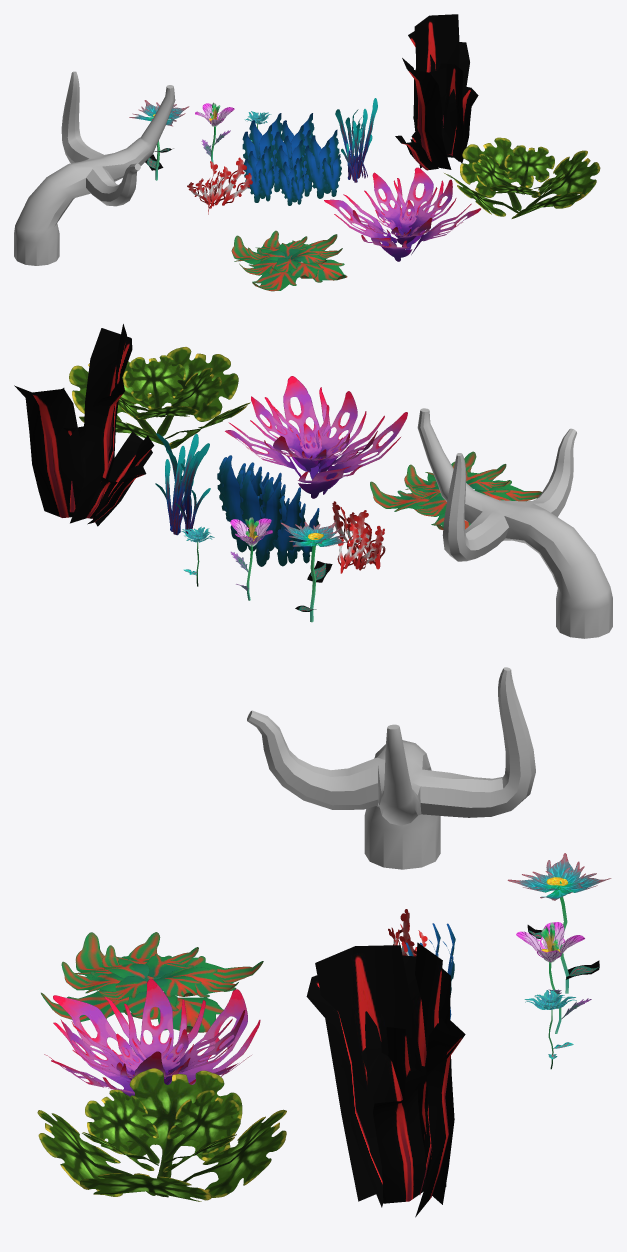
File: plantsWip_edit_for_FBX.fbx
3 renders of one model, top to bottom at view 1: azimuth 30°, elevation 25°; view 2: azimuth 150°, elevation 25°; view 3: azimuth 270°, elevation 25°, orthographic. The views are drawn at different scales.
Parts seen in each view (by area): view 1: tree01, plants07, plants03, plants05, plants02, plants01, plants06, plants04, flower03, flower02; view 2: tree01, plants07, plants03, plants02, plants05, plants01, plants06, plants04, flower03, flower02, flower01; view 3: plants07, tree01, plants03, plants02, plants01, flower03, flower02, flower01.
Part boxes in pixels (x1,y1,x2,y2): tree01: [14, 71, 175, 265]; plants07: [395, 14, 478, 170]; plants03: [444, 137, 600, 218]; plants05: [242, 113, 341, 205]; plants02: [324, 167, 480, 261]; plants01: [231, 230, 347, 291]; plants06: [335, 98, 377, 182]; plants04: [187, 157, 252, 214]; flower03: [129, 100, 189, 180]; flower02: [195, 102, 234, 162]; tree01: [417, 408, 612, 638]; plants07: [14, 324, 154, 526]; plants03: [69, 347, 250, 449]; plants02: [225, 376, 407, 498]; plants05: [217, 455, 319, 566]; plants01: [370, 451, 541, 529]; plants06: [155, 433, 210, 535]; plants04: [332, 501, 385, 573]; flower03: [281, 522, 346, 622]; flower02: [230, 517, 272, 600]; flower01: [181, 526, 214, 586]; plants07: [306, 942, 465, 1217]; tree01: [247, 667, 535, 869]; plants03: [37, 1068, 286, 1201]; plants02: [44, 979, 260, 1096]; plants01: [41, 932, 263, 1032]; flower03: [507, 853, 611, 993]; flower02: [516, 922, 591, 1033]; flower01: [524, 990, 576, 1069].
Bounding box in the file's own units: 2315 × 725 × 1422.
